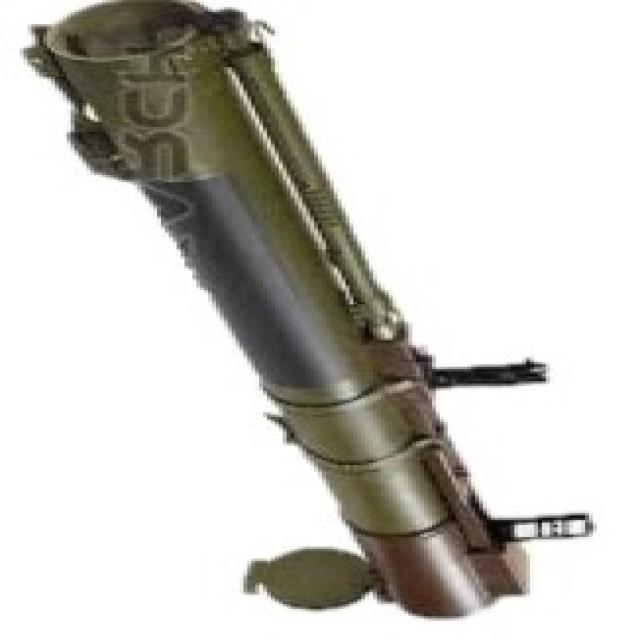bazooka: (16, 1, 619, 628)
